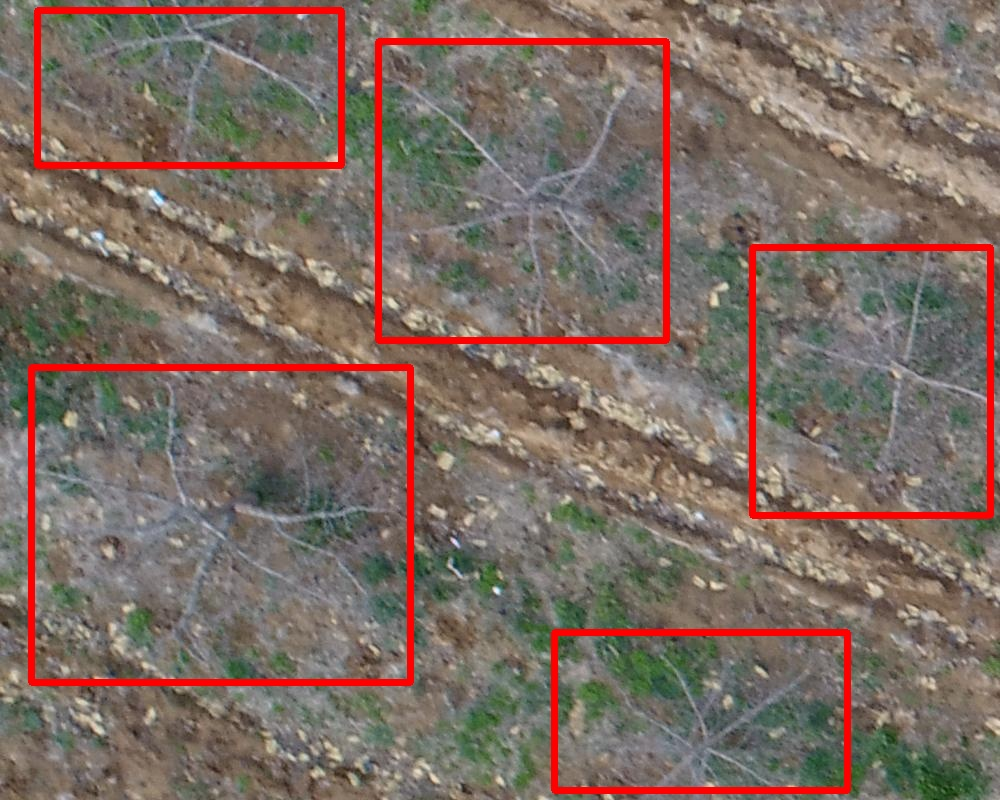apple: (31, 367, 410, 682), (378, 41, 666, 340), (752, 247, 990, 515), (37, 10, 341, 165), (554, 632, 847, 790)
